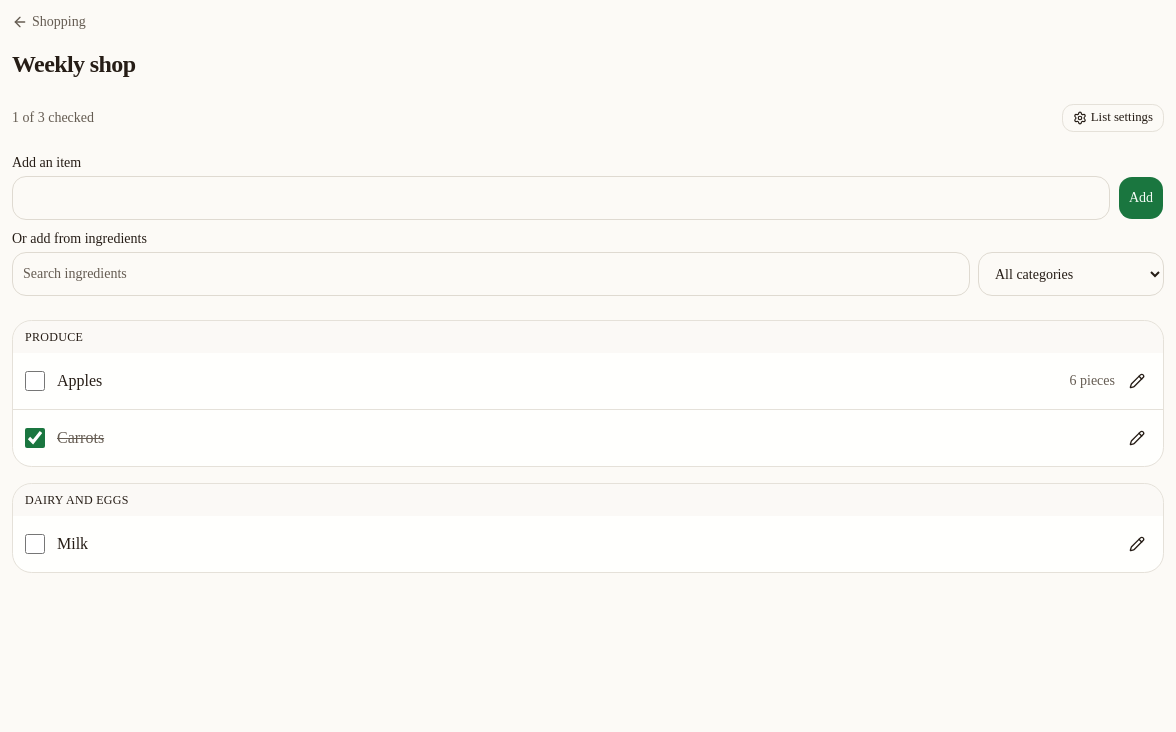
quick-add › adds an ingredient by id, so it lands in that ingredient's aisle
The width and height of the screenshot is (1176, 732).
Click the dropdown labelled "Or add from ingredients": [491, 274] box top-left (12, 252), bottom-right (970, 296)
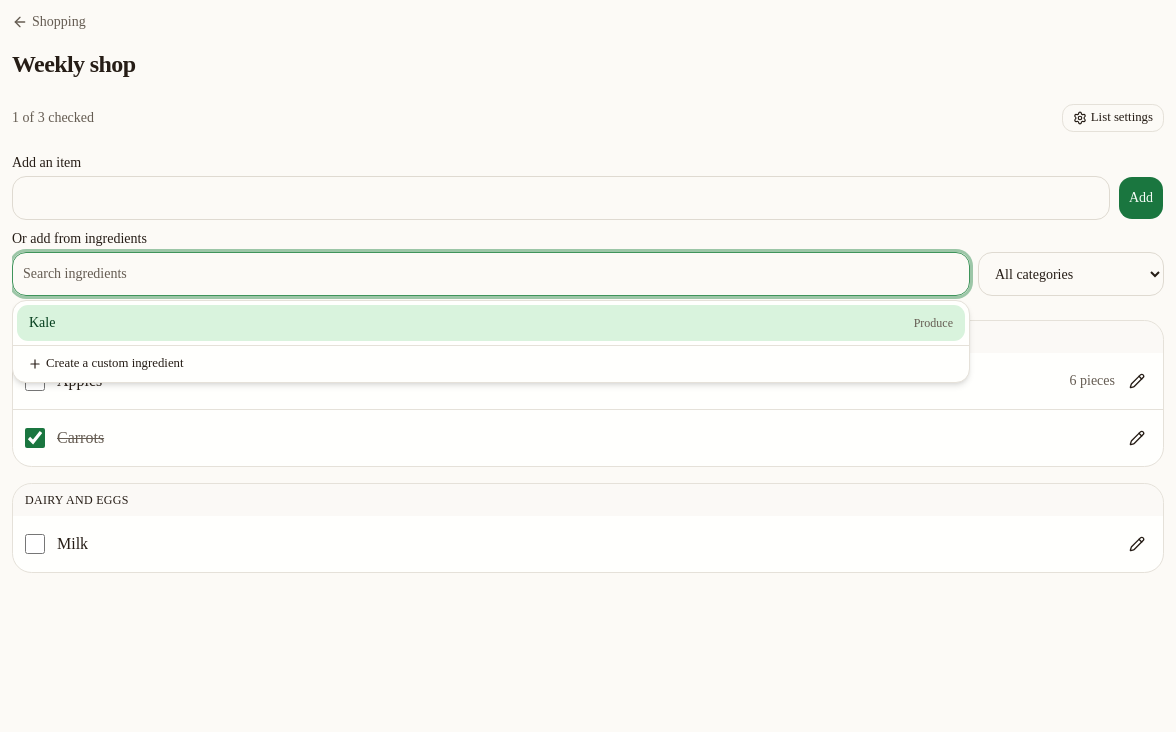
Click the option "Kale Produce": [933, 323] box top-left (17, 305), bottom-right (965, 341)
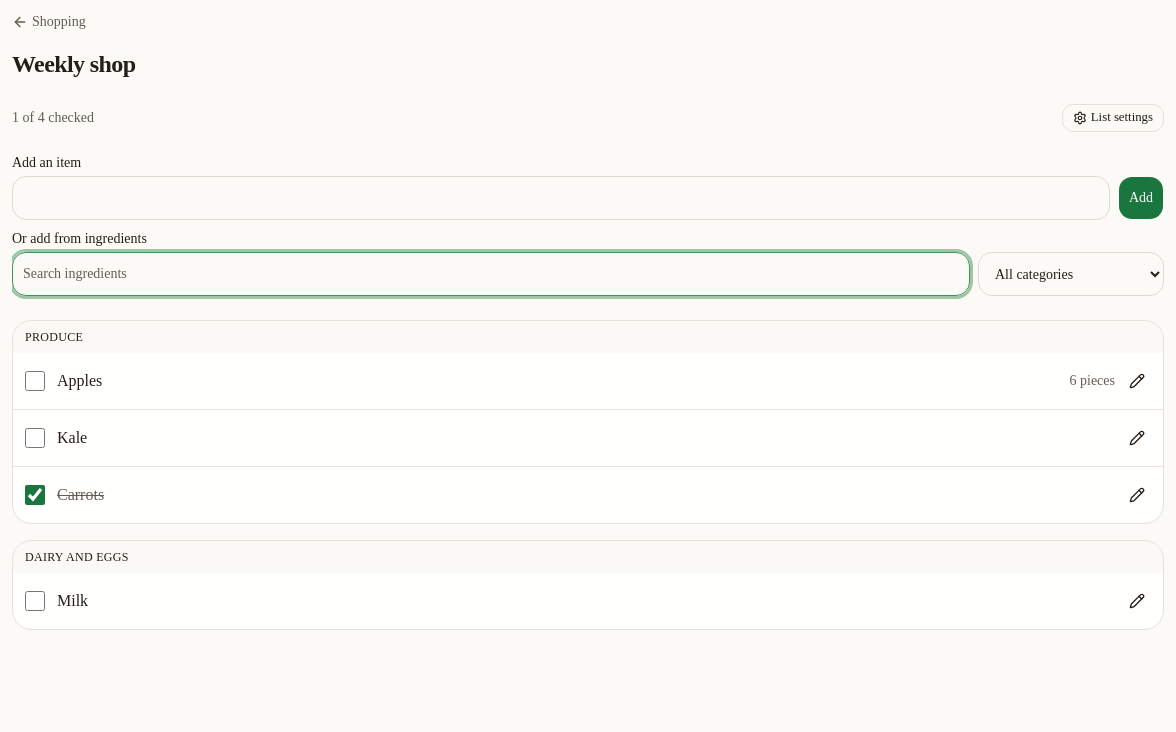
Expected: the checkbox labelled "Kale" is shown, top-left (25, 428), bottom-right (45, 448)
